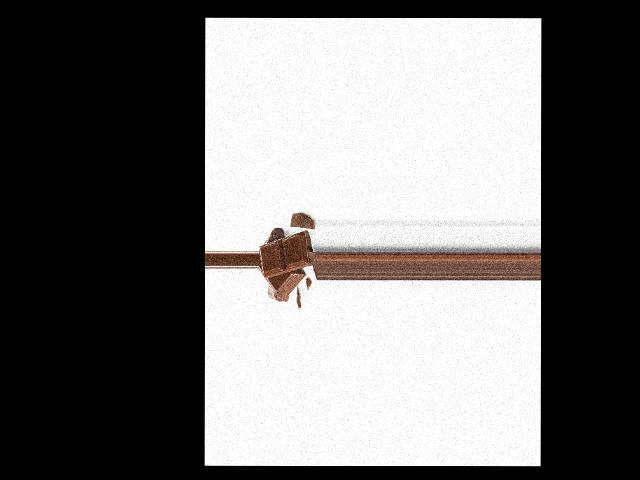chocolate: (261, 232, 311, 278)
